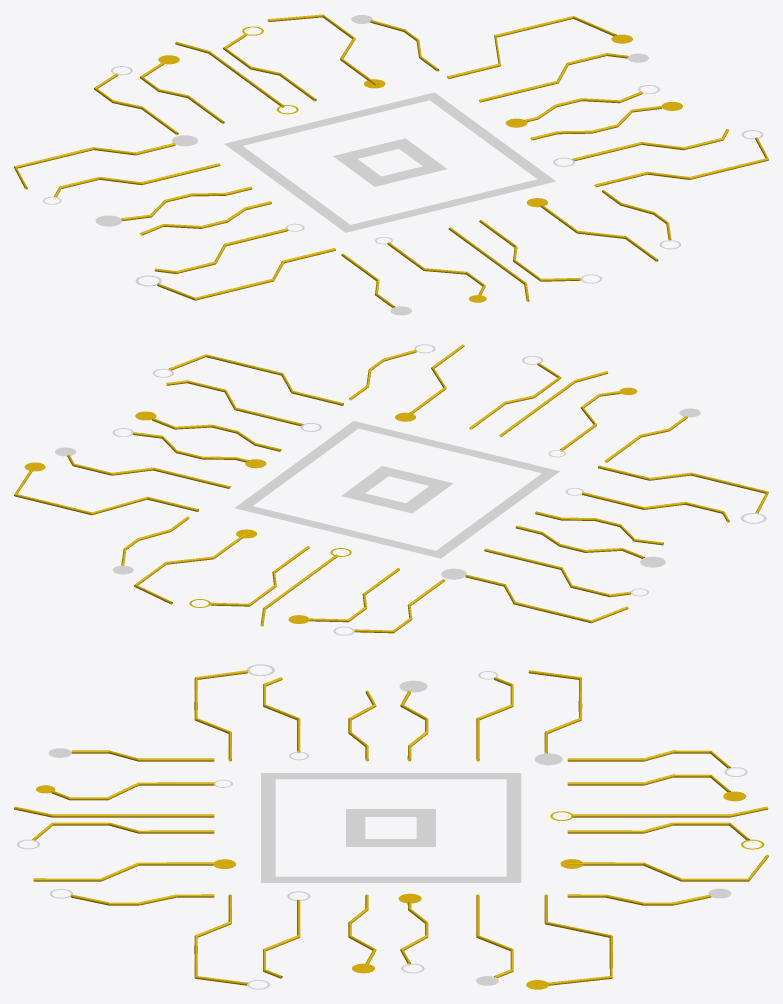
File: Pcb 1.fbx
3 renders of one model, top to bottom at view 1: azimuth 30°, elevation 25°; view 2: azimuth 150°, elevation 25°; view 3: azimuth 270°, elevation 25°, orthographic. The views are drawn at different scales.
Visible parts, largest first — view 1: Yellow; view 2: Yellow; view 3: Yellow.
Part boxes in pixels (x1,y1,x2,y2): Yellow: [14, 14, 768, 315]; Yellow: [14, 344, 768, 635]; Yellow: [14, 664, 768, 989].
Size of the model in its own units: 479 by 2 by 470.
